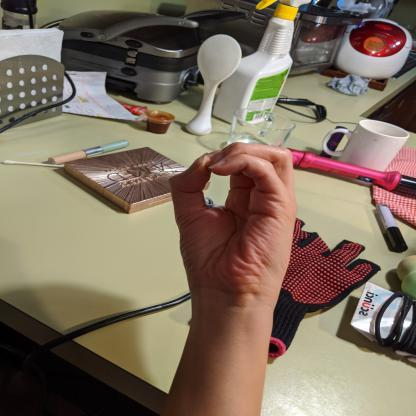O: (164, 140, 302, 308)
